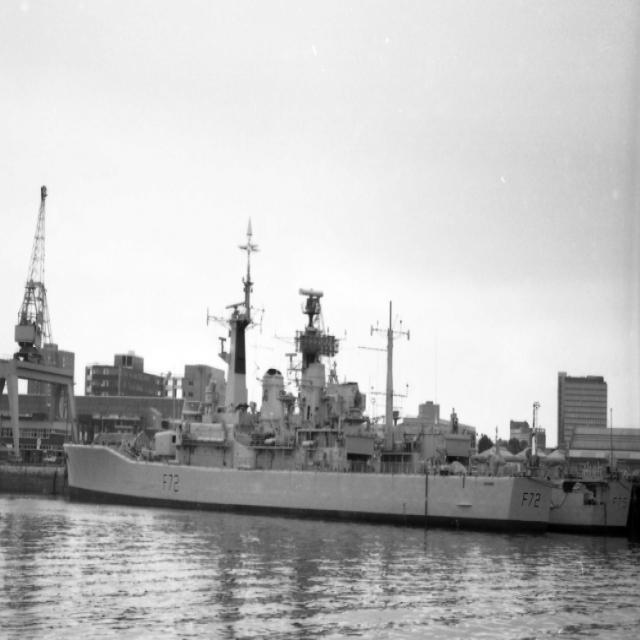Fragata: (62, 202, 554, 542)
